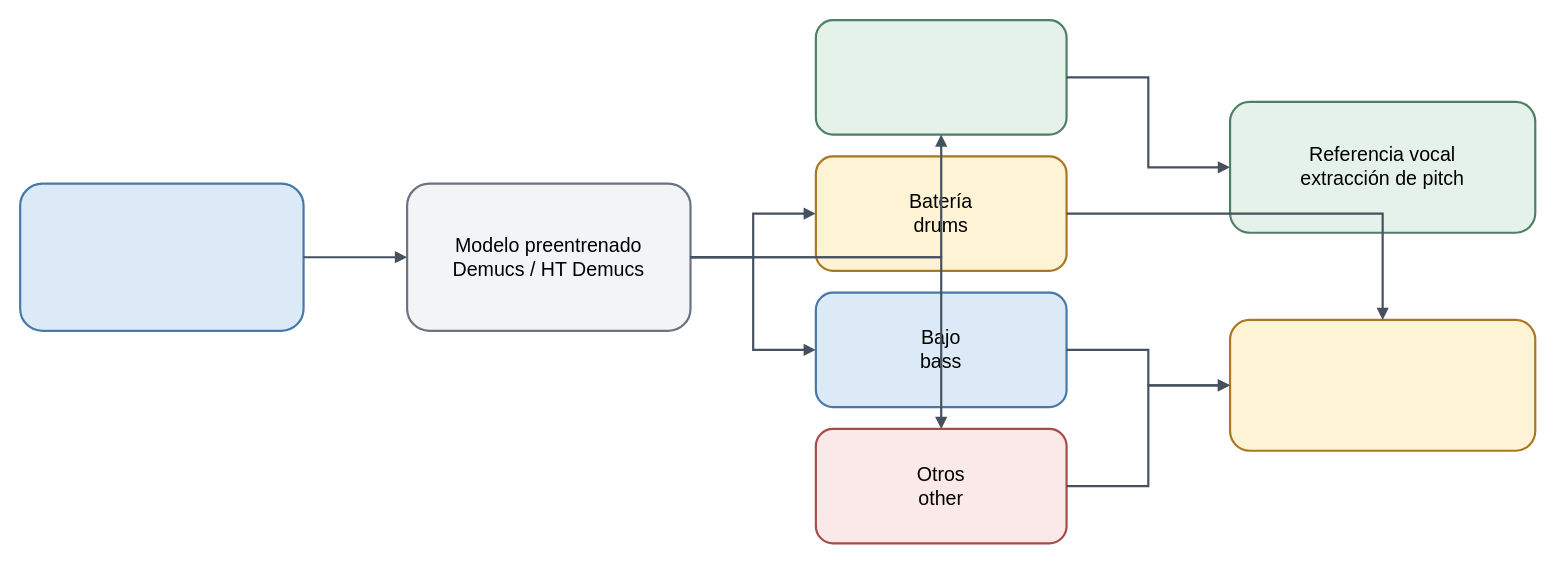
Image size: 1554x562. Some labels were removed from this diagram. The shapes that lost their labels are listed below. From the top down, each one's box as (x1, y1, x2, y2) in pixels, then its label:
(814, 19, 1067, 135): Voz vocals
(19, 182, 304, 331): Canción original mezcla musical
(1228, 318, 1536, 451): Acompañamiento batería + bajo + otros
